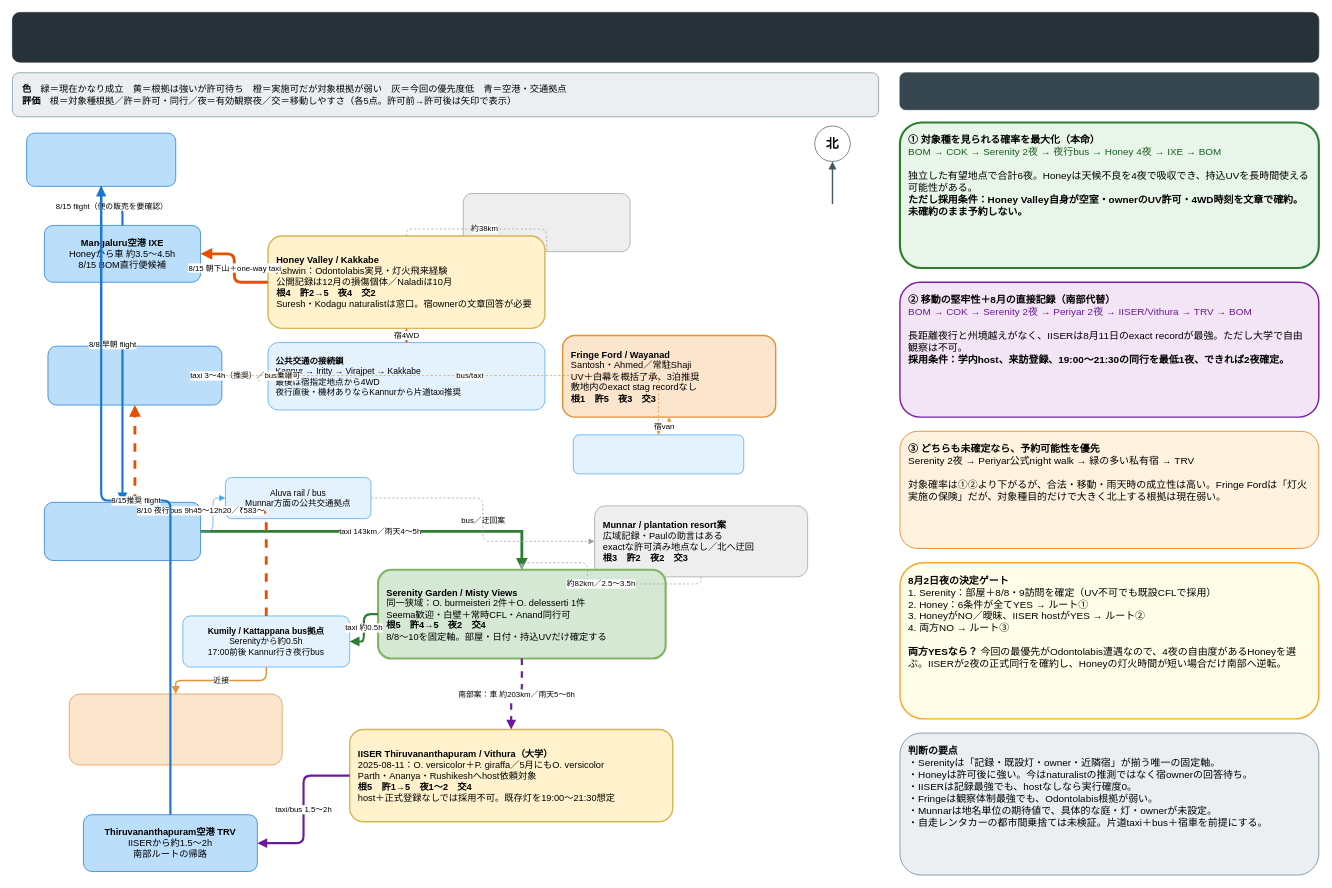
This 1332x888 diagram has some shape labels left out. Here are the shapes that lost their labels. From the top down, the box of each, then its label:
(12, 12, 1319, 62): 南インド Odontolabis 遠征：地点・交通・確度マップ 2026-08-01時点／2名／実働 8月8〜15日
(899, 72, 1319, 110): 結論：目的別の最適ルート
(26, 132, 176, 186): Mumbai / BOM 8/7 17:50着・8/16 19:30発 国内線は8/15までに戻る
(463, 193, 630, 252): Madikeri / Maya Rainforestours 8月guesthouse休業 → 今回外す
(47, 345, 222, 405): Kannur 市街・bus/rail Kumily/Kattappanaから夜行bus着 Honeyへの朝の車の起点
(573, 434, 744, 474): Talapoya集合地点 → 宿専用van 約40分
(44, 502, 201, 561): Kochi空港 COK BOMから早朝便 Serenityへ予約taxi 4〜5h
(69, 693, 282, 765): Periyar / Thekkady Forest Dept公式night walk 合法・安全・近いがUV幕でなく対象記録も弱め 根2 許5 夜2 交5
